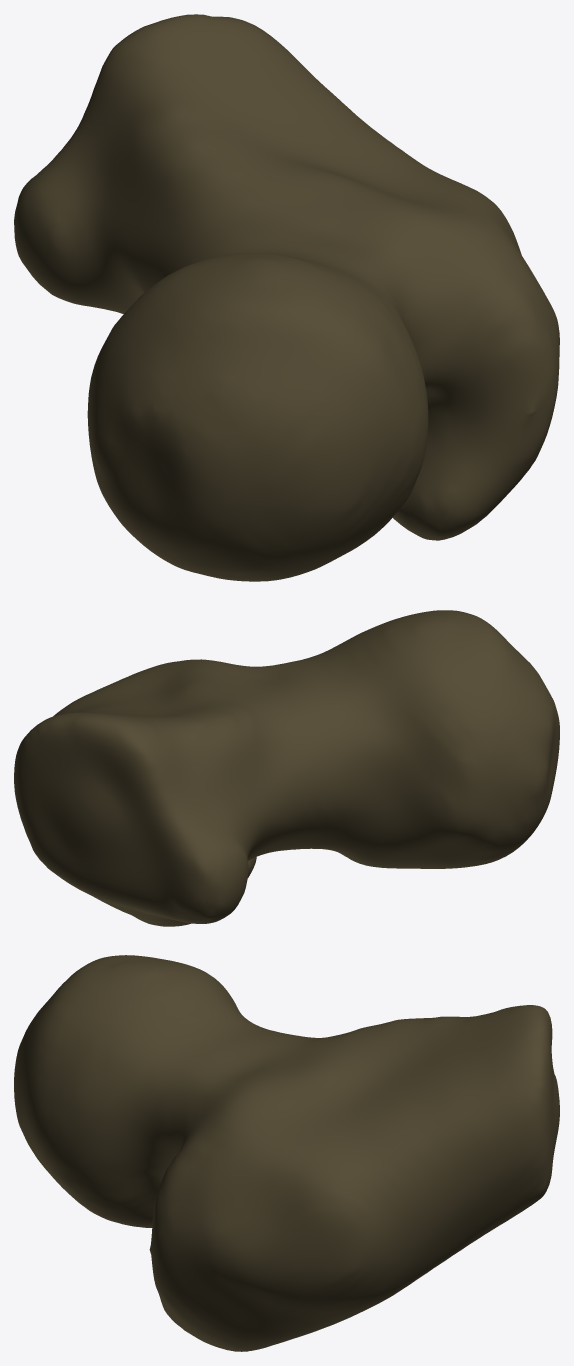
File: segmentations_femur_right.obj
3 renders of one model, top to bottom at view 1: azimuth 30°, elevation 25°; view 2: azimuth 150°, elevation 25°; view 3: azimuth 270°, elevation 25°, orthographic. The views are drawn at different scales.
Parts seen in each view (by area): view 1: grp1; view 2: grp1; view 3: grp1.
Part boxes in pixels (x1=…): grp1: x1=14, y1=14, x2=559, y2=581; grp1: x1=14, y1=610, x2=559, y2=926; grp1: x1=14, y1=955, x2=559, y2=1351.
Bounding box in the file's own units: 54.98 × 38.95 × 63.26.
